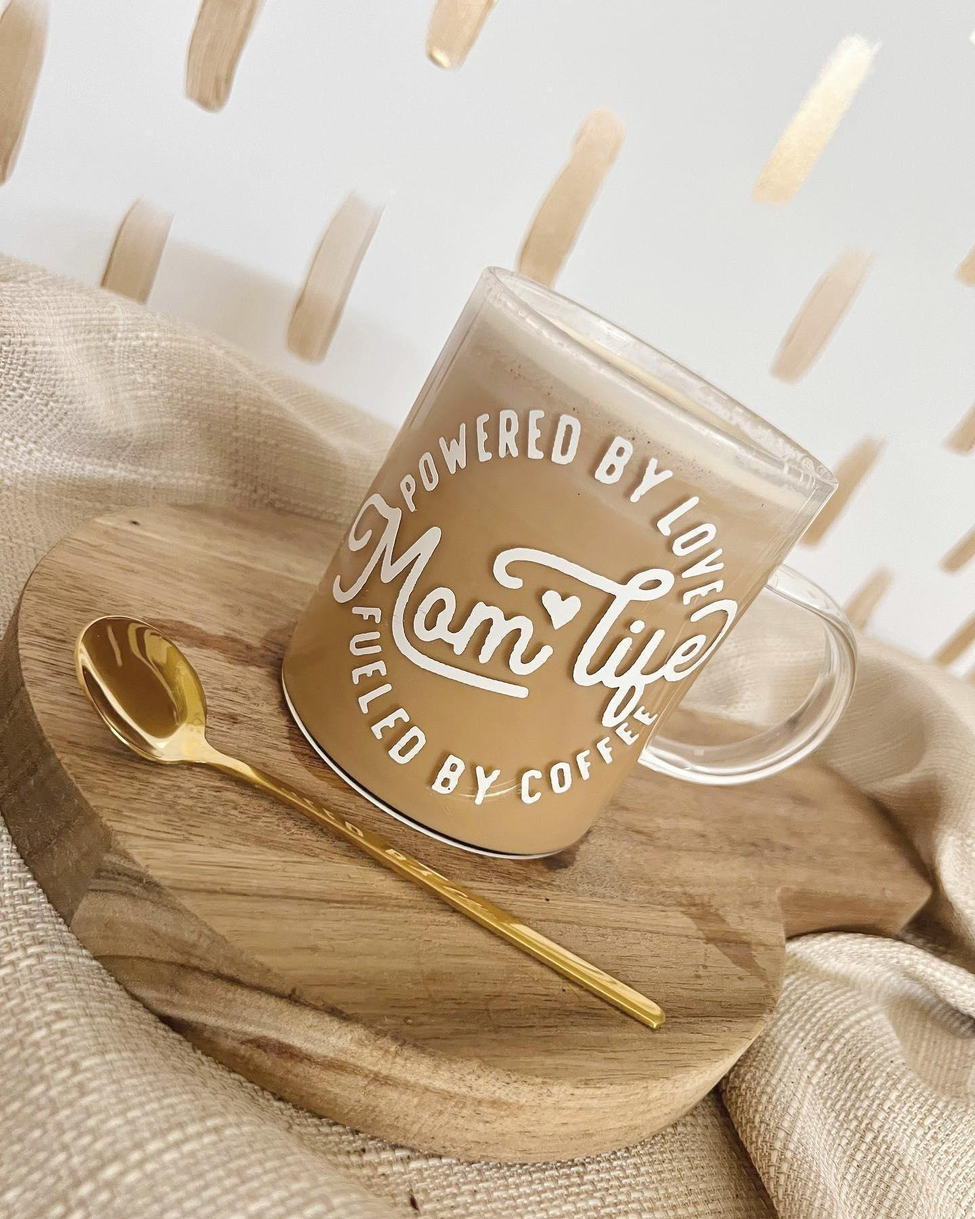glass-mug: (270, 255, 861, 884)
